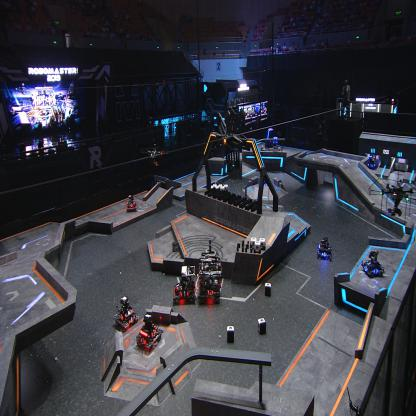car: (198, 250, 222, 304), (135, 313, 163, 354), (114, 294, 140, 331), (172, 264, 196, 303), (362, 250, 384, 279), (317, 236, 332, 262), (126, 194, 138, 212), (214, 179, 225, 198), (367, 153, 377, 170), (258, 174, 269, 189)
